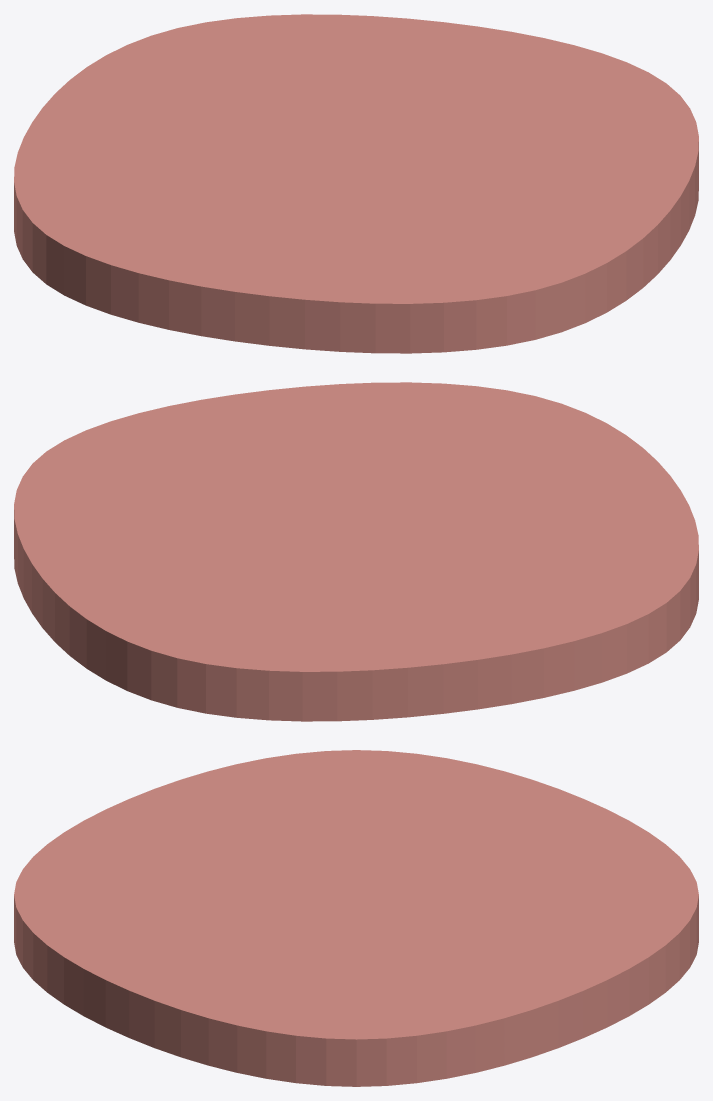
The model's file is platter.glb.
3 renders of one model, top to bottom at view 1: azimuth 30°, elevation 25°; view 2: azimuth 150°, elevation 25°; view 3: azimuth 270°, elevation 25°, orthographic. The views are drawn at different scales.
Parts seen in each view (by area): view 1: Cube; view 2: Cube; view 3: Cube.
Part boxes in pixels (x1=…): Cube: x1=14, y1=14, x2=698, y2=353; Cube: x1=14, y1=382, x2=698, y2=721; Cube: x1=14, y1=750, x2=698, y2=1086.
Size of the model in its own units: 6.54 by 0.5003 by 6.54.
